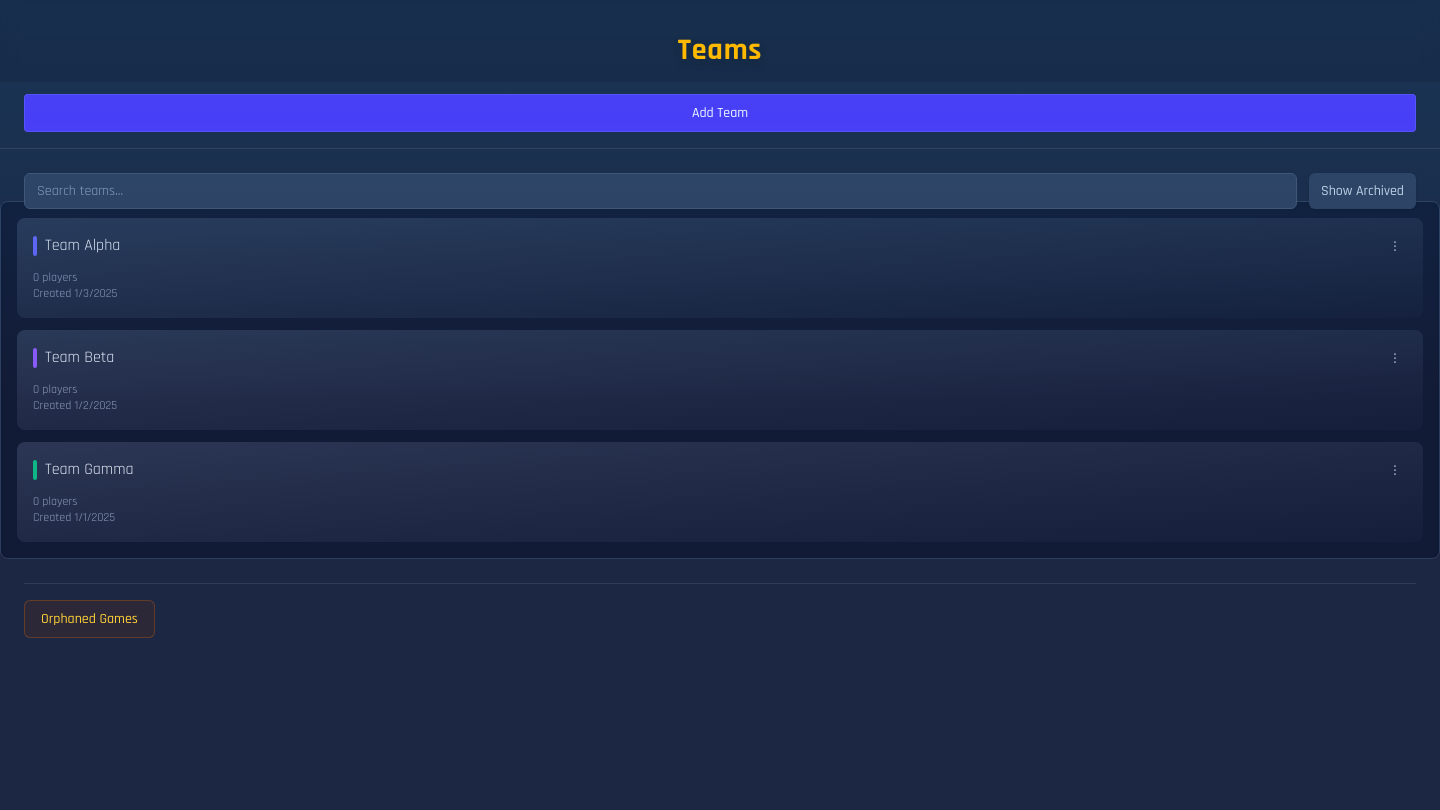
Scenario: TeamManagerModal › Team Deletion › shows delete confirmation when Delete clicked
What coordinates should you click on to do the following:
click the button named "Team actions" in the row of "Team Alpha"
I would click on:
 (1395, 246)
Its box is [1383,234,1407,258].
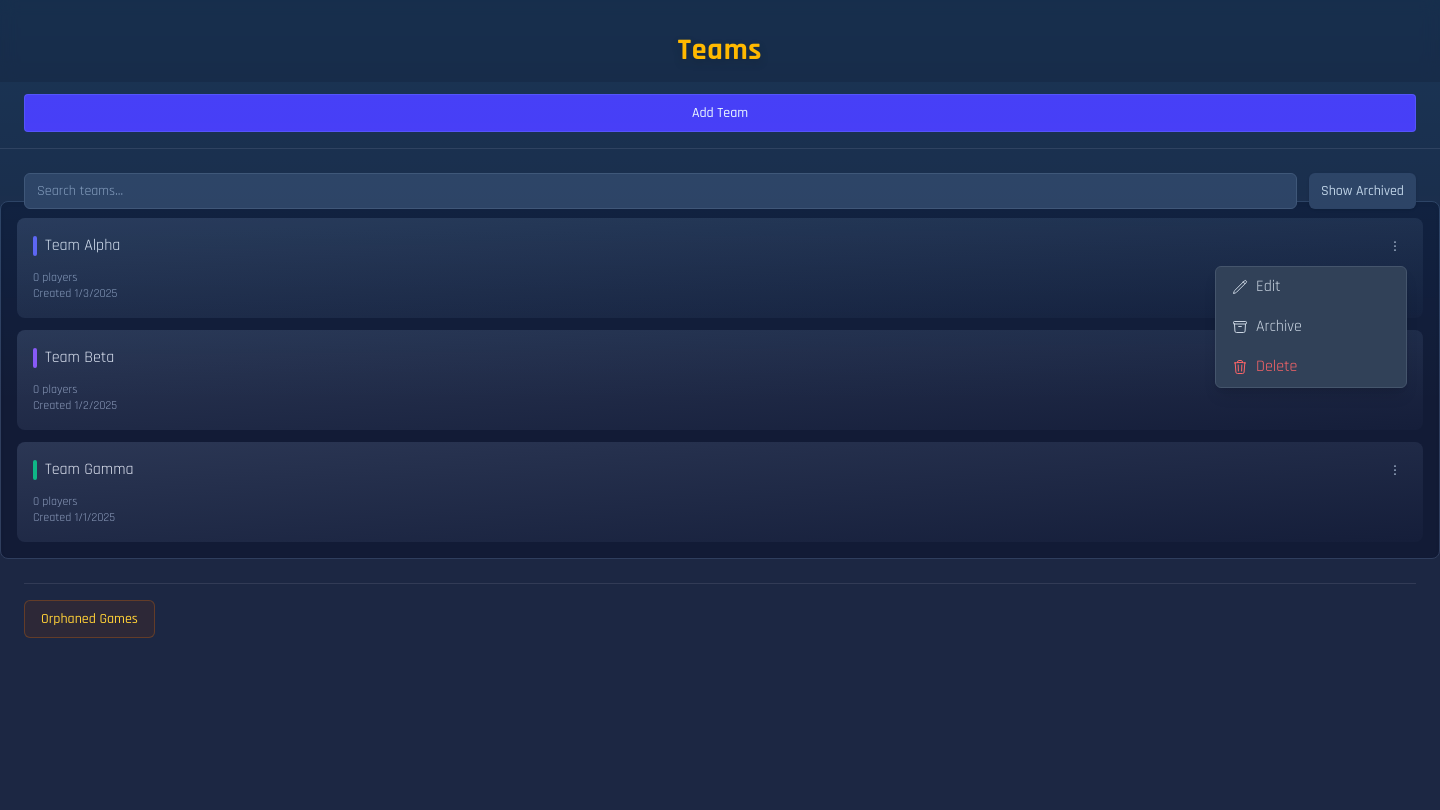
What coordinates should you click on to do the following:
click the button "Delete"
I would click on:
 (1311, 366)
Its box is [1216,346,1406,386].
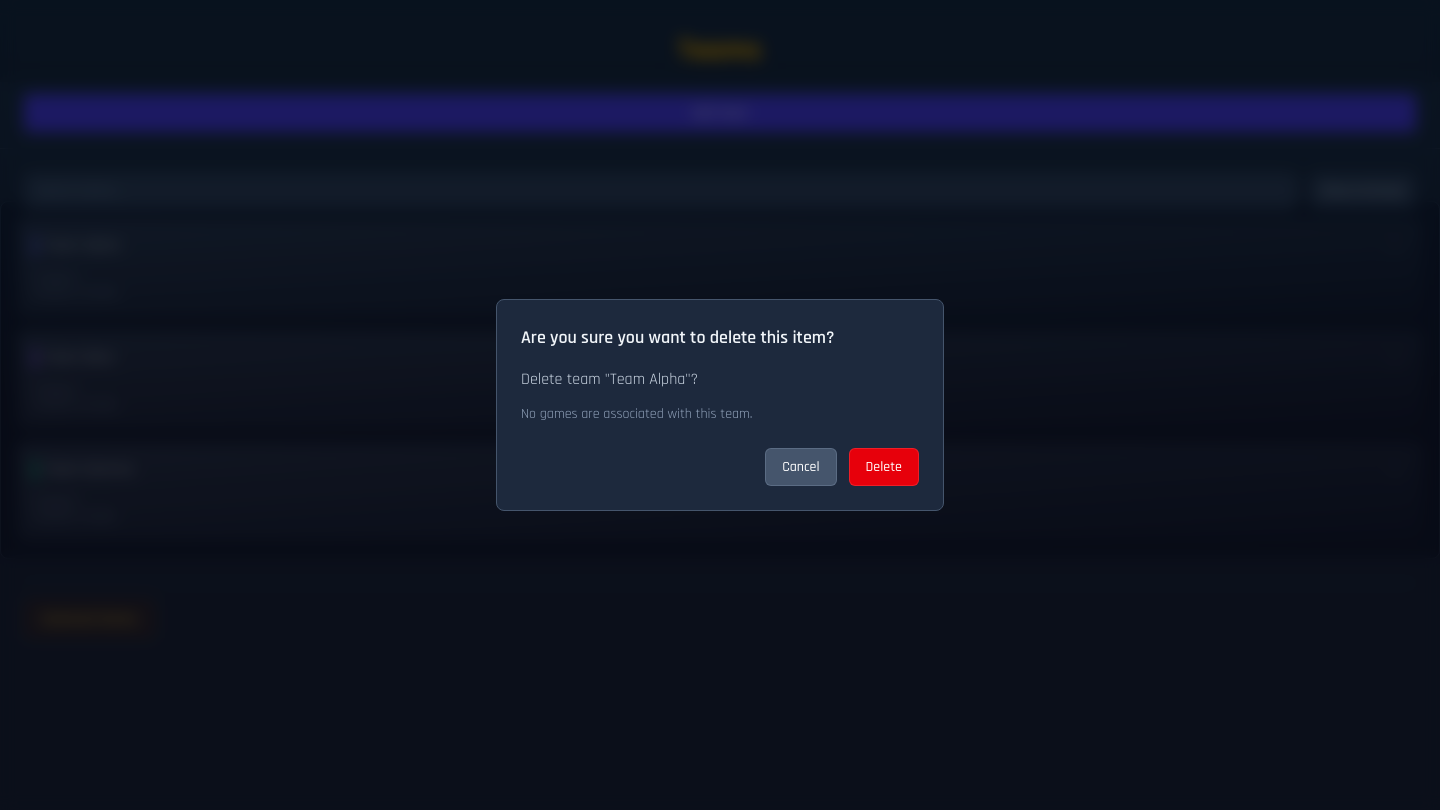
Expected: the heading "Are you sure you want to delete this item?" is shown, [521,326,834,349]
Expected: the text "Delete team \"Team Alpha\"?" is shown, [521,369,698,390]
